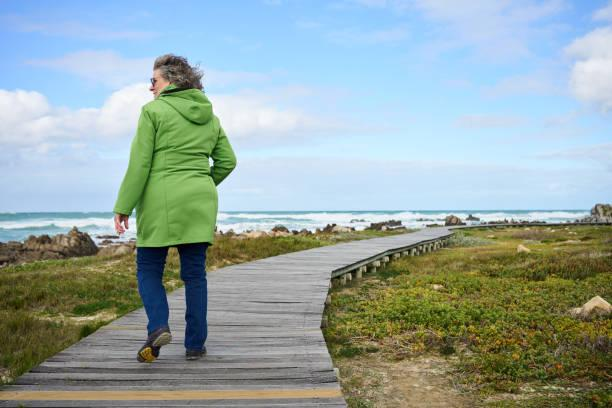Human: (105, 28, 237, 389)
